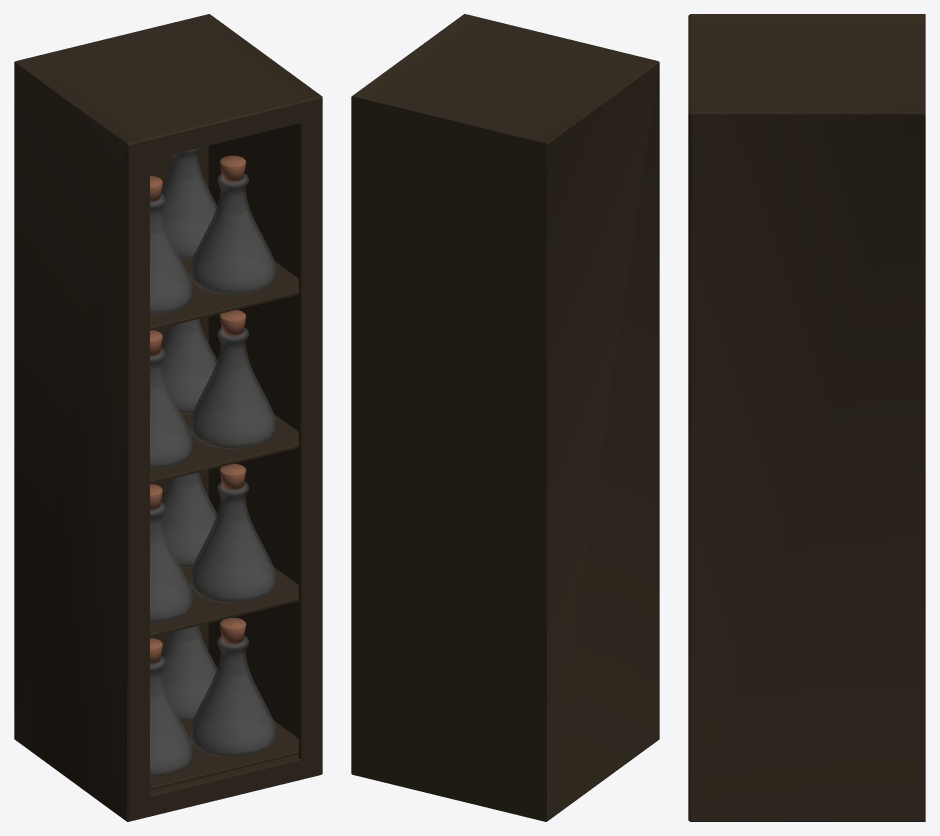
Rendered from potion1_shelf.fbx.
3 renders of one model, left to right at view 1: azimuth 30°, elevation 25°; view 2: azimuth 150°, elevation 25°; view 3: azimuth 270°, elevation 25°, orthographic. The views are drawn at different scales.
Visible parts, largest first — view 1: shelf_potion1; view 2: shelf_potion1; view 3: shelf_potion1.
Boxes of the visible parts, x1=… form: shelf_potion1: x1=14, y1=14, x2=322, y2=821; shelf_potion1: x1=351, y1=14, x2=659, y2=821; shelf_potion1: x1=688, y1=14, x2=925, y2=821.
Size of the model in its own units: 99.62 by 330 by 99.95.
